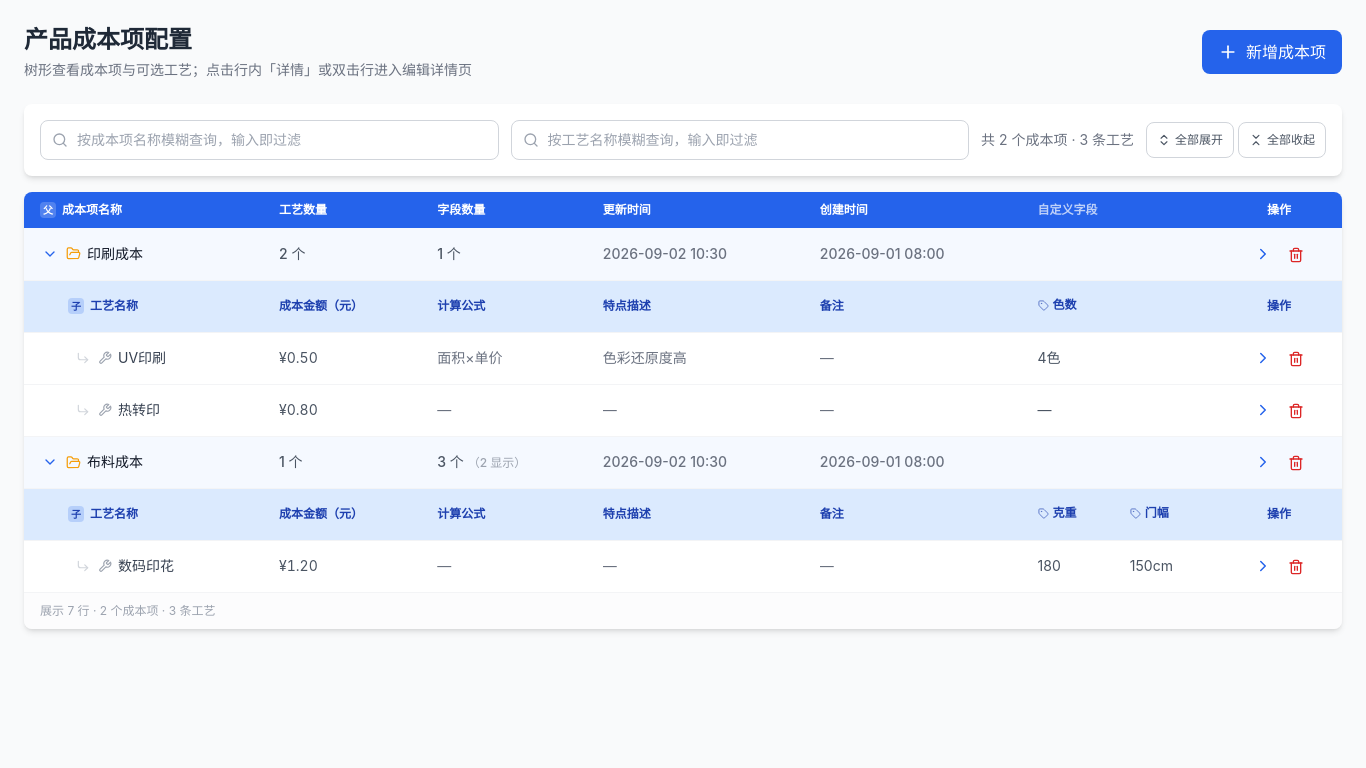
Test case: 列表查询页 - 树形结构与表头层级 › 点击父行折叠箭头隐藏子表头与子行，再次点击恢复
Expected: the text "UV印刷" is shown, x1=118 y1=348 x2=166 y2=368
Click the button named "折叠 印刷成本".
click(50, 254)  # box x1=40 y1=244 x2=60 y2=264
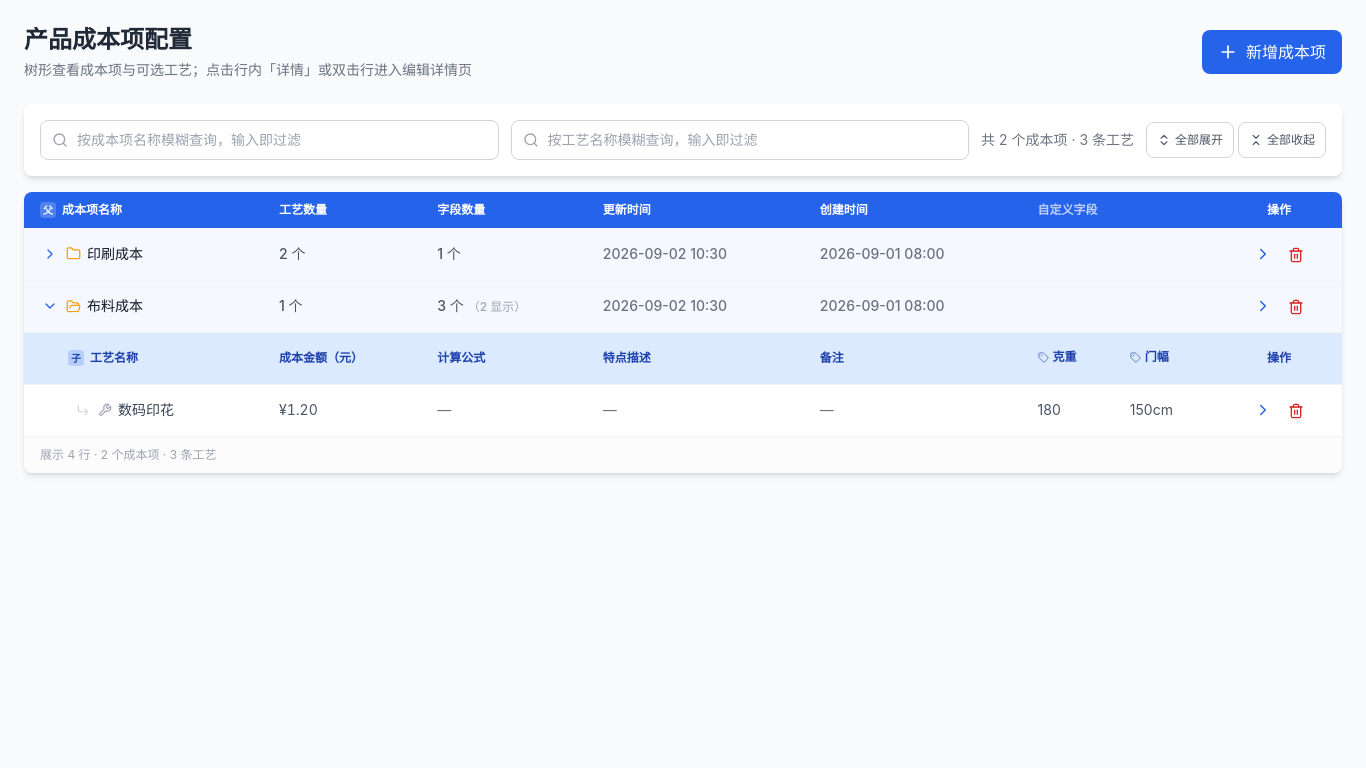
Result: the text "UV印刷" is gone
Result: the text "热转印" is gone
Result: the text "色数" is gone
Click the button named "展开 印刷成本".
click(50, 254)  # box x1=40 y1=244 x2=60 y2=264
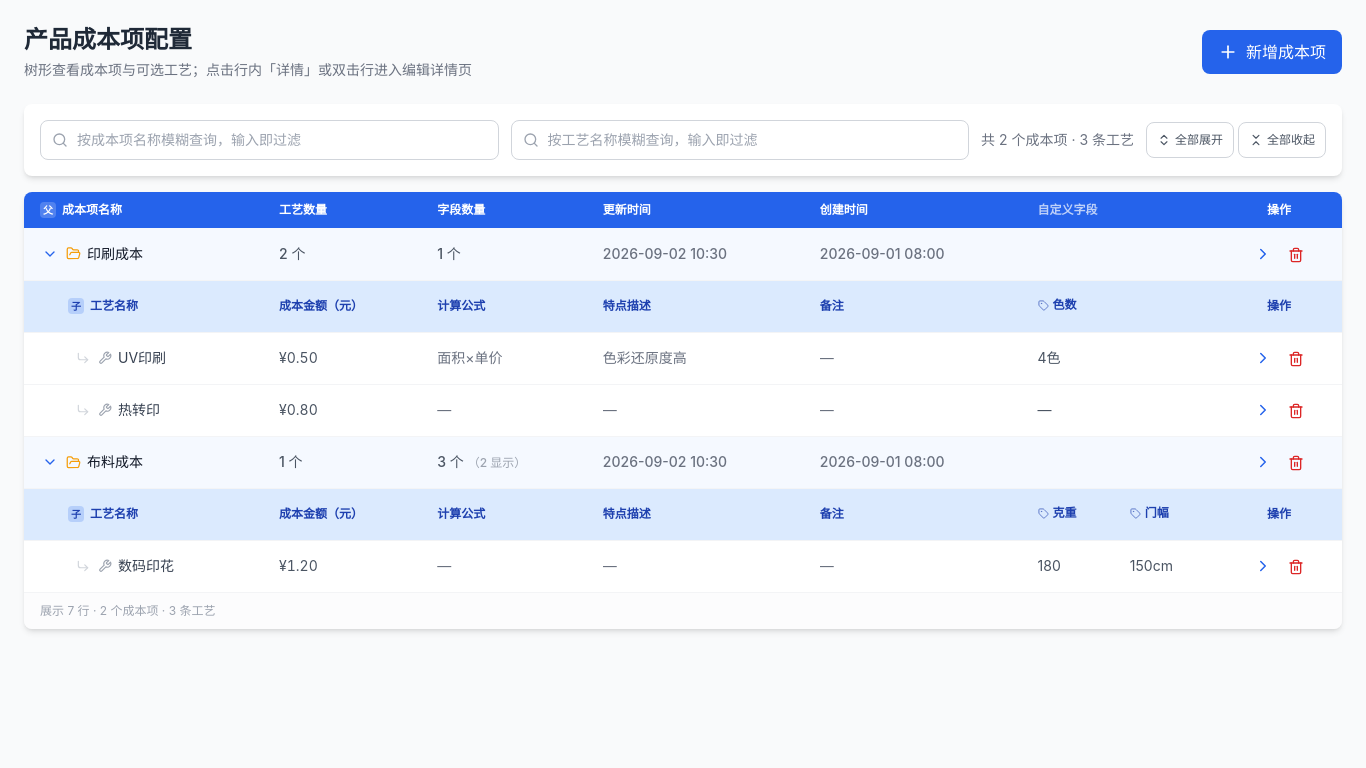
Result: the text "UV印刷" is shown at x1=118 y1=348 x2=166 y2=368
Result: the text "色数" is shown at x1=1038 y1=297 x2=1076 y2=313
